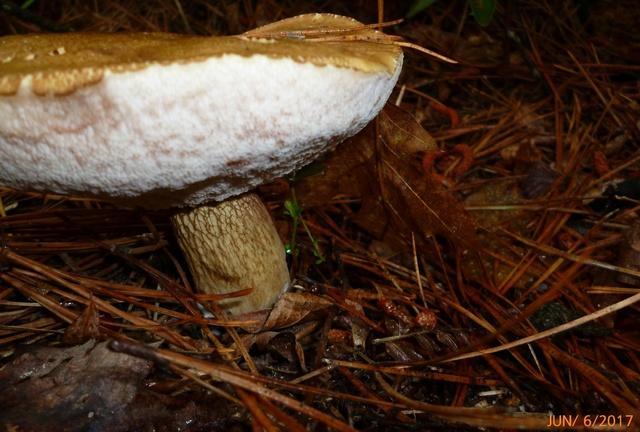Non-edible Mushroom: (0, 14, 406, 323)
